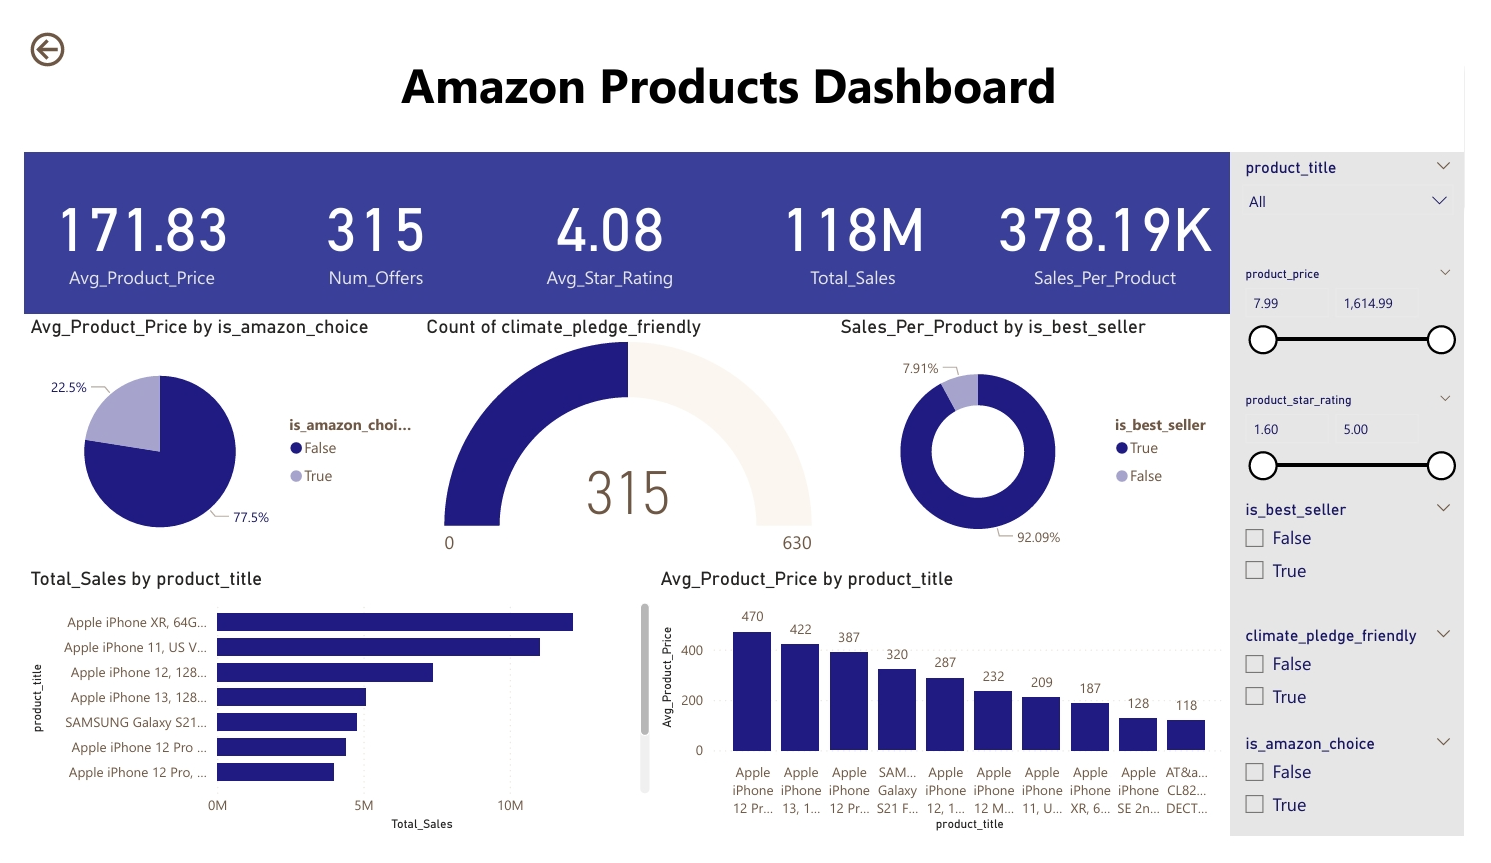

The page's visual inventory and layout, read from the dashboard file:
{"tool":"powerbi","page":{"name":"Overview","canvas":[1280,720],"ordinal":0},"visuals":[{"type":"textbox","box":[0,0,1280,128],"z":0},{"type":"card","fields":{"Values":["phone search (1) (1).Avg_Product_Price"]},"box":[0,112,208,144],"z":1000},{"type":"actionButton","box":[0,0,100,40],"z":2000},{"type":"card","fields":{"Values":["phone search (1) (1).Avg_Star_Rating"]},"box":[416,112,208,144],"z":3000},{"type":"card","fields":{"Values":["phone search (1) (1).Total_Sales"]},"box":[624,112,224,144],"z":4000},{"type":"card","fields":{"Values":["phone search (1) (1).Num_Offers"]},"box":[208,112,208,144],"z":5000},{"type":"card","fields":{"Values":["phone search (1) (1).Sales_Per_Product"]},"box":[848,112,224,144],"z":6000},{"type":"clusteredBarChart","fields":{"Category":["phone search (1) (1).product_title"],"Y":["phone search (1) (1).Total_Sales"]},"box":[0,480,560,240],"z":7000},{"type":"donutChart","fields":{"Category":["phone search (1) (1).is_best_seller"],"Y":["phone search (1) (1).Sales_Per_Product"]},"box":[720,256,352,224],"z":8000},{"type":"pieChart","fields":{"Category":["phone search (1) (1).is_amazon_choice"],"Y":["phone search (1) (1).Avg_Product_Price"]},"box":[0,256,352,224],"z":9000},{"type":"clusteredColumnChart","fields":{"Category":["phone search (1) (1).product_title"],"Y":["phone search (1) (1).Avg_Product_Price"]},"box":[560,480,512,240],"z":10000},{"type":"gauge","fields":{"Y":["CountNonNull(phone search (1) (1).climate_pledge_friendly)"]},"box":[352,256,368,224],"z":11000},{"type":"slicer","fields":{"Values":["phone search (1) (1).product_title"]},"box":[1072,112,208,96],"z":12000},{"type":"slicer","fields":{"Values":["phone search (1) (1).product_price"]},"box":[1072,208,208,112],"z":13000},{"type":"slicer","fields":{"Values":["phone search (1) (1).product_star_rating"]},"box":[1072,320,208,96],"z":14000},{"type":"slicer","fields":{"Values":["phone search (1) (1).is_best_seller"]},"box":[1072,416,208,112],"z":15000},{"type":"slicer","fields":{"Values":["phone search (1) (1).climate_pledge_friendly"]},"box":[1072,528,208,96],"z":16000},{"type":"slicer","fields":{"Values":["phone search (1) (1).is_amazon_choice"]},"box":[1072,624,208,96],"z":17000}]}

Visuals, with their boxes on the page's 1280x720 design canvas (x1, y1, x2, y2). These are canvas units, not pixel positions in the 1491x863 screenshot, which may show the page scaled, cropped or inside an application window:
textbox: left=0, top=0, right=1280, bottom=128
card - phone search (1) (1).Avg_Product_Price: left=0, top=112, right=208, bottom=256
actionButton: left=0, top=0, right=100, bottom=40
card - phone search (1) (1).Avg_Star_Rating: left=416, top=112, right=624, bottom=256
card - phone search (1) (1).Total_Sales: left=624, top=112, right=848, bottom=256
card - phone search (1) (1).Num_Offers: left=208, top=112, right=416, bottom=256
card - phone search (1) (1).Sales_Per_Product: left=848, top=112, right=1072, bottom=256
clusteredBarChart - phone search (1) (1).product_title x phone search (1) (1).Total_Sales: left=0, top=480, right=560, bottom=720
donutChart - phone search (1) (1).is_best_seller x phone search (1) (1).Sales_Per_Product: left=720, top=256, right=1072, bottom=480
pieChart - phone search (1) (1).is_amazon_choice x phone search (1) (1).Avg_Product_Price: left=0, top=256, right=352, bottom=480
clusteredColumnChart - phone search (1) (1).product_title x phone search (1) (1).Avg_Product_Price: left=560, top=480, right=1072, bottom=720
gauge - CountNonNull(phone search (1) (1).climate_pledge_friendly): left=352, top=256, right=720, bottom=480
slicer - phone search (1) (1).product_title: left=1072, top=112, right=1280, bottom=208
slicer - phone search (1) (1).product_price: left=1072, top=208, right=1280, bottom=320
slicer - phone search (1) (1).product_star_rating: left=1072, top=320, right=1280, bottom=416
slicer - phone search (1) (1).is_best_seller: left=1072, top=416, right=1280, bottom=528
slicer - phone search (1) (1).climate_pledge_friendly: left=1072, top=528, right=1280, bottom=624
slicer - phone search (1) (1).is_amazon_choice: left=1072, top=624, right=1280, bottom=720
